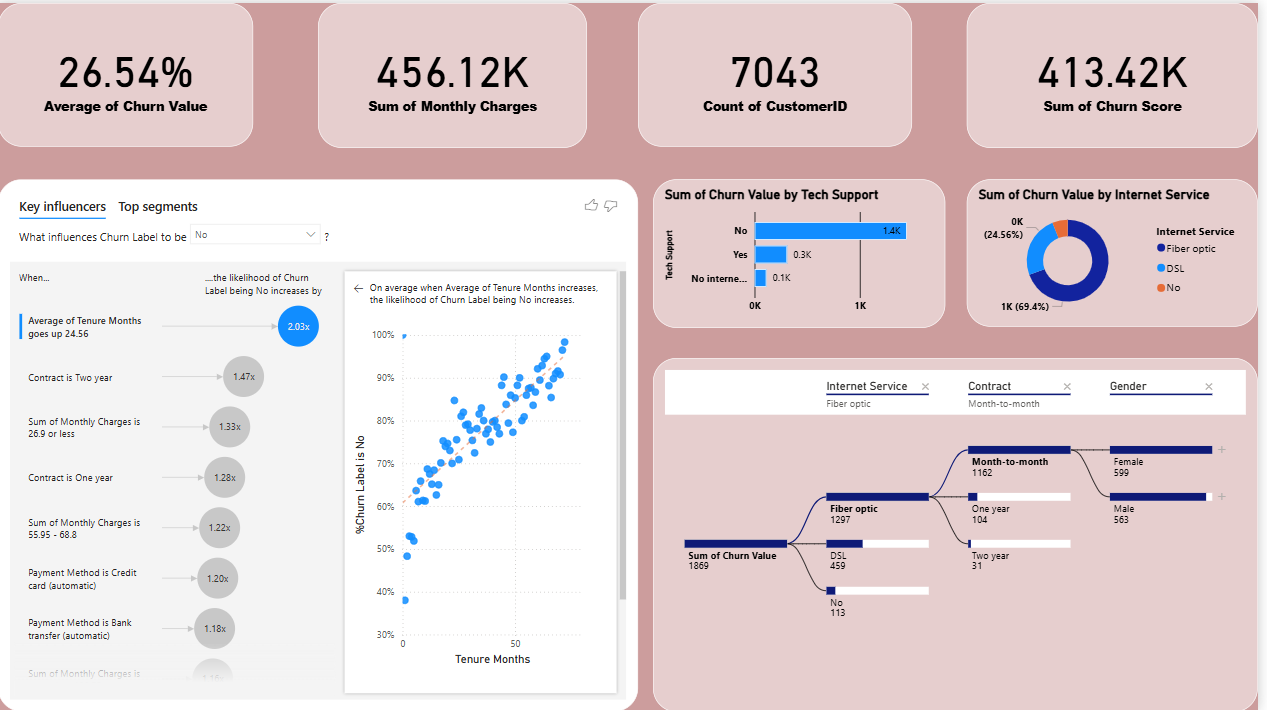

The dashboard page shown, as its layout file describes it:
{"tool":"powerbi","page":{"name":"Customer Retention & Churn Prediction using AutoML","canvas":[1600,900],"ordinal":0},"visuals":[{"type":"card","fields":{"Values":["Avg(Customer_Churn_Predictions.Churn Value)"]},"box":[0,0,323.8,182.5],"z":0},{"type":"card","fields":{"Values":["Sum(Customer_Churn_Predictions.Monthly Charges)"]},"box":[406.3,0,341.3,184.1],"z":1},{"type":"donutChart","fields":{"Category":["Customer_Churn_Predictions.Internet Service"],"Y":["Sum(Customer_Churn_Predictions.Churn Value)"]},"box":[1230.2,223.8,369.8,187.3],"z":2},{"type":"barChart","fields":{"Category":["Customer_Churn_Predictions.Tech Support"],"Y":["Sum(Customer_Churn_Predictions.Churn Value)"]},"box":[832.5,223.8,371.2,188.8],"z":3},{"type":"keyDriversVisual","fields":{"Target":["Customer_Churn_Predictions.Churn Label"],"ExplainBy":["Sum(Customer_Churn_Predictions.Monthly Charges)","Avg(Customer_Churn_Predictions.Tenure Months)","Customer_Churn_Predictions.Contract","Customer_Churn_Predictions.Payment Method"]},"box":[0,223.8,812.7,676.2],"z":4},{"type":"decompositionTreeVisual","fields":{"Analyze":["Sum(Customer_Churn_Predictions.Churn Value)"],"ExplainBy":["Customer_Churn_Predictions.Internet Service","Customer_Churn_Predictions.Contract","Customer_Churn_Predictions.Gender","Customer_Churn_Predictions.Streaming TV","Customer_Churn_Predictions.Online Security","Customer_Churn_Predictions.Streaming Movies","Customer_Churn_Predictions.Paperless Billing"]},"box":[831.7,450.8,768.3,449.2],"z":5},{"type":"card","title":"Total Customer Count","fields":{"Values":["CountNonNull(Customer_Churn_Predictions.CustomerID)"]},"box":[812.7,0,347.6,182.5],"z":6},{"type":"card","fields":{"Values":["Sum(Customer_Churn_Predictions.Churn Score)"]},"box":[1230.2,0,369.8,184.1],"z":7}]}

Visuals, with their boxes in screenshot pixels (x1, y1, x2, y2), scaled from the page's 1600x900 canvas onto the 1267x710 screenshot:
card - Avg(Customer_Churn_Predictions.Churn Value): (0,0,256,144)
card - Sum(Customer_Churn_Predictions.Monthly Charges): (322,0,592,145)
donutChart - Customer_Churn_Predictions.Internet Service x Sum(Customer_Churn_Predictions.Churn Value): (974,177,1266,324)
barChart - Customer_Churn_Predictions.Tech Support x Sum(Customer_Churn_Predictions.Churn Value): (659,177,953,325)
keyDriversVisual - Customer_Churn_Predictions.Churn Label x Sum(Customer_Churn_Predictions.Monthly Charges): (0,177,644,709)
decompositionTreeVisual - Sum(Customer_Churn_Predictions.Churn Value) x Customer_Churn_Predictions.Internet Service: (659,356,1266,709)
"Total Customer Count" card: (644,0,919,144)
card - Sum(Customer_Churn_Predictions.Churn Score): (974,0,1266,145)
